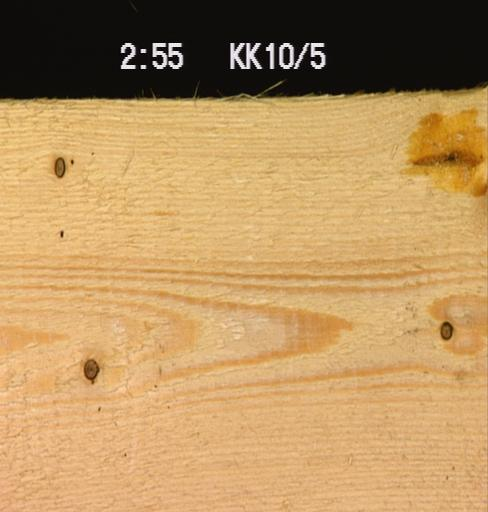dry_knot: (82, 356, 99, 384), (52, 155, 66, 179), (438, 320, 453, 340)
